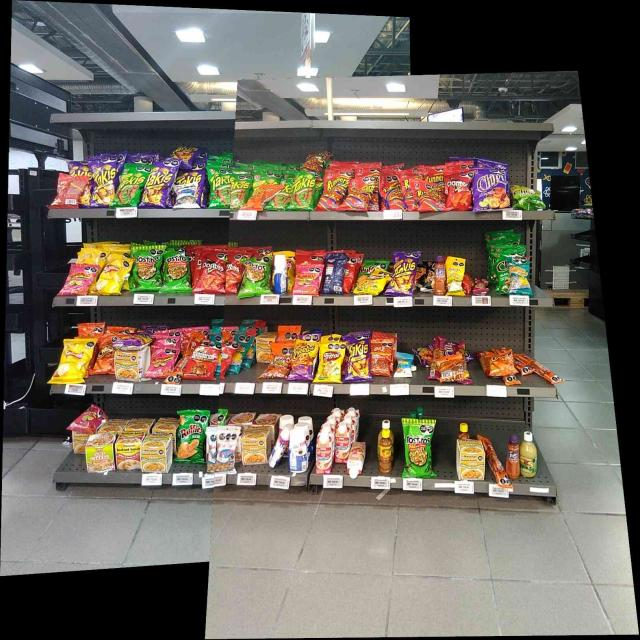bitzAlmendras: (396, 354, 412, 377)
bitzEnchilado90: (373, 341, 390, 376)
bitzEnchilado95: (515, 354, 559, 380), (485, 438, 504, 482), (175, 356, 185, 384)
bitzHabanero: (430, 336, 440, 379), (474, 277, 487, 294)
bokadosCacahuates: (327, 256, 343, 292)
botaneraChilito: (379, 430, 392, 472)
cheetosFlaminHot: (294, 340, 313, 379)
cheetosOriginal: (96, 336, 114, 374), (489, 353, 514, 375), (252, 185, 272, 209)
chipsFuego: (475, 169, 507, 209)
chipsJalapeno: (496, 254, 508, 294)
chipsPapatinas: (514, 186, 540, 208)
churrumais: (296, 266, 320, 294), (69, 266, 91, 294), (150, 348, 172, 373), (78, 406, 100, 431)
delPrimoSalsa: (521, 432, 537, 478)
doritosNacho: (199, 248, 224, 292), (447, 174, 471, 209), (226, 254, 241, 294)
fritosLimon: (319, 344, 340, 382), (363, 273, 388, 293)
leoCacahuates: (217, 427, 236, 473), (175, 185, 195, 207)
leoMix: (274, 347, 288, 377)
maruchanPollo: (456, 438, 483, 479), (115, 349, 146, 381), (143, 437, 169, 472), (243, 427, 268, 463), (255, 335, 272, 362)
maruchanRes: (117, 432, 141, 469)
nestleCarnation: (316, 431, 332, 474), (336, 423, 349, 462), (351, 442, 364, 474)
nestleLechera: (270, 426, 289, 466), (290, 431, 308, 472), (274, 254, 287, 292)
nissinCamaron: (87, 434, 114, 471)
productoAtras: (58, 175, 80, 207), (442, 359, 466, 379)
rancheritos: (190, 346, 217, 380)
rufflesQueso: (180, 411, 203, 464)
runners: (417, 181, 440, 211), (349, 177, 369, 209), (324, 173, 341, 209), (384, 178, 402, 208), (307, 150, 324, 170)
sabritasOriginal: (61, 340, 87, 380), (102, 257, 124, 295)
semillasCalabaza: (446, 258, 463, 294)
semillasGirasol: (510, 260, 529, 293)
tajinDulce: (506, 435, 518, 477), (435, 255, 446, 295)
takisFuego: (90, 160, 113, 206), (347, 339, 371, 382), (148, 165, 170, 208), (392, 252, 414, 294), (175, 145, 194, 166)
takisOriginal: (210, 166, 229, 207), (119, 168, 139, 205), (293, 172, 312, 210), (232, 174, 248, 206)
tostitos: (404, 419, 433, 476), (135, 248, 160, 290), (164, 251, 190, 290), (244, 258, 269, 292)
